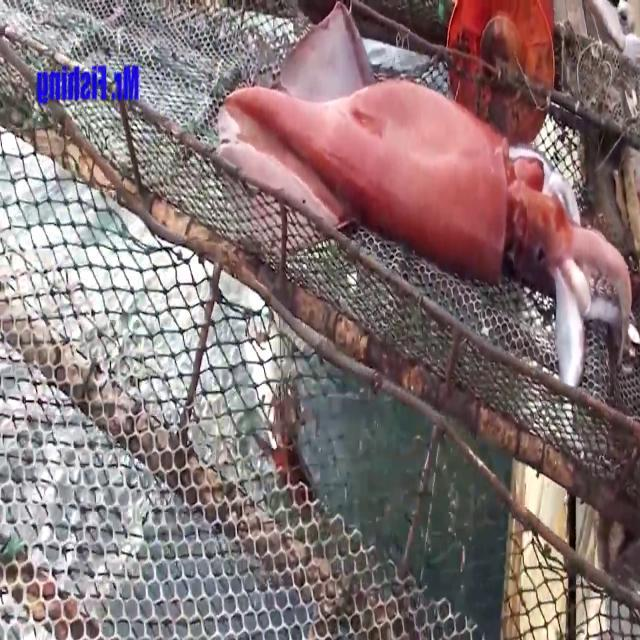SQUID: (189, 0, 640, 386)
